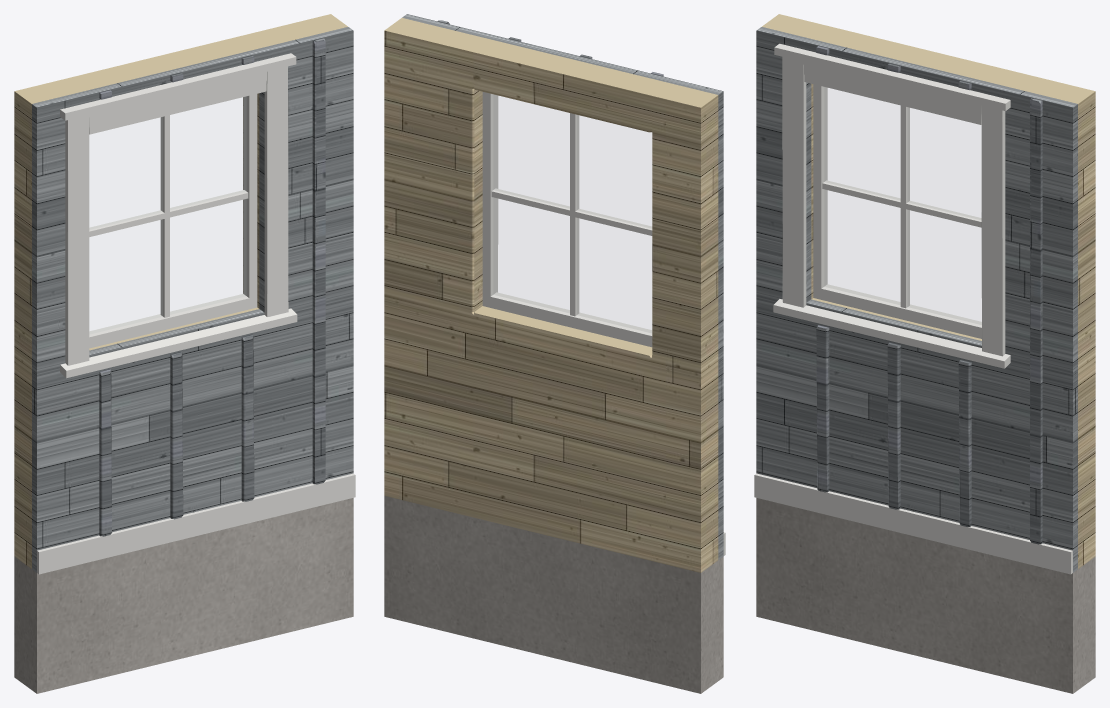
The model's file is o_win_l.glb.
The picture shows the model from 3 angles, left to right: view 1: azimuth 30°, elevation 25°; view 2: azimuth 150°, elevation 25°; view 3: azimuth 330°, elevation 25°; orthographic projection.
Parts seen in each view (by area): view 1: o_win_l_siding, o_win_l_concrete, o_win_l_trim, folha_glass, o_win_l_plaster, o_win_l_batten, folha_trim; view 2: o_win_l_plaster, o_win_l_concrete, folha_glass, folha_trim, o_win_l_siding, o_win_l_trim; view 3: o_win_l_siding, o_win_l_concrete, o_win_l_trim, folha_glass, o_win_l_plaster, o_win_l_batten, folha_trim.
Boxes of the visible parts, x1,y1,x2,y2 form: o_win_l_siding: (32, 27, 353, 572); o_win_l_concrete: (14, 498, 353, 693); o_win_l_trim: (37, 53, 355, 574); folha_glass: (90, 97, 245, 333); o_win_l_plaster: (14, 14, 347, 568); o_win_l_batten: (99, 38, 325, 536); folha_trim: (89, 94, 257, 348); o_win_l_plaster: (384, 18, 718, 572); o_win_l_concrete: (384, 496, 723, 693); folha_glass: (494, 95, 651, 332); folha_trim: (482, 92, 652, 347); o_win_l_siding: (402, 14, 723, 559); o_win_l_trim: (496, 95, 725, 555); o_win_l_siding: (756, 27, 1077, 572); o_win_l_concrete: (756, 498, 1095, 693); o_win_l_trim: (754, 43, 1072, 574); folha_glass: (825, 88, 981, 324); o_win_l_plaster: (762, 14, 1095, 568); o_win_l_batten: (816, 46, 1042, 544); folha_trim: (813, 84, 981, 338).
Bounding box in the file's own units: 1.78 × 3.15 × 0.28.
6 materials, 4 textured.
